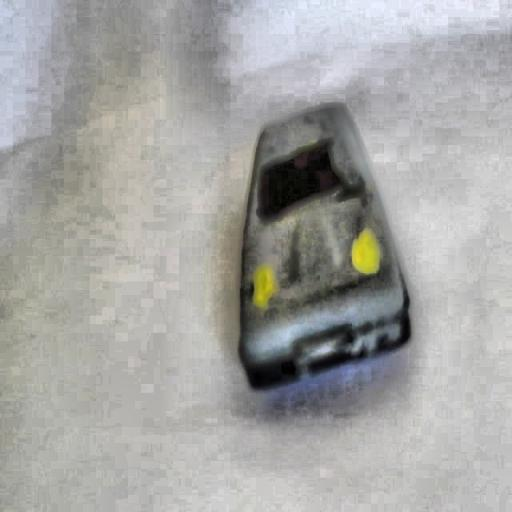normal_car: (231, 101, 415, 393)
